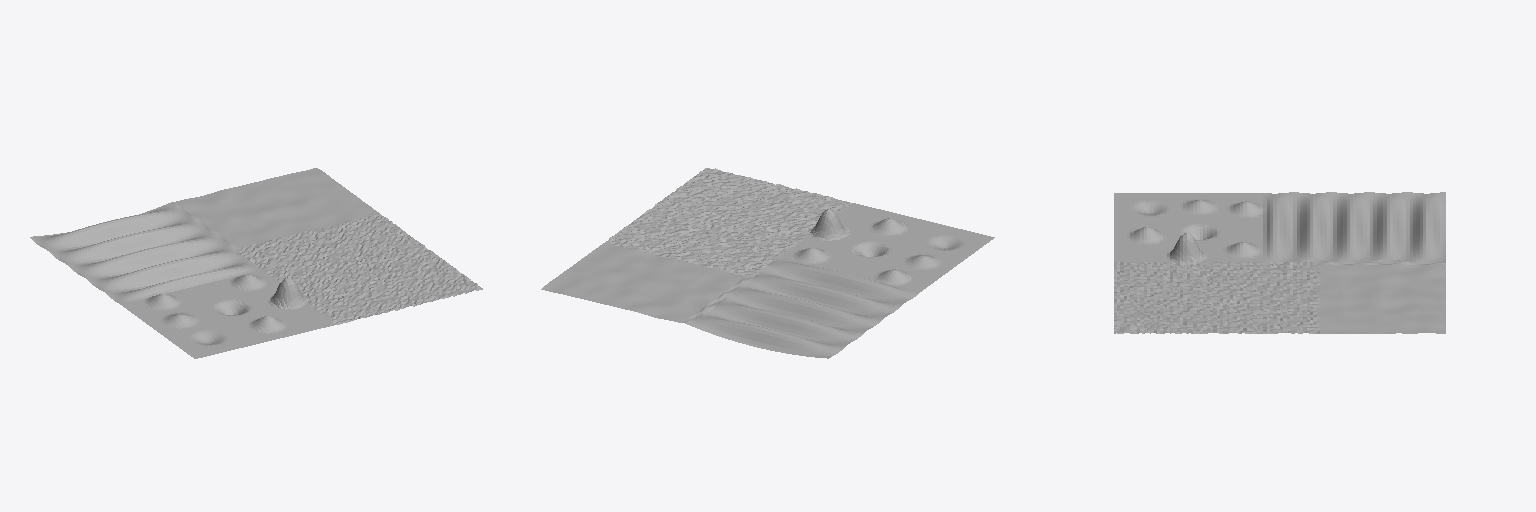
File: sandbox.obj
The picture shows the model from 3 angles: view 1: azimuth 30°, elevation 25°; view 2: azimuth 150°, elevation 25°; view 3: azimuth 270°, elevation 25°; orthographic projection.
Parts seen in each view (by area): view 1: Plane001; view 2: Plane001; view 3: Plane001.
Part boxes in pixels (x1,y1,x2,y2): Plane001: (30,168,482,358); Plane001: (541,168,994,358); Plane001: (1114,192,1445,333).
Size of the model in its own units: 10000 by 1101 by 10000.